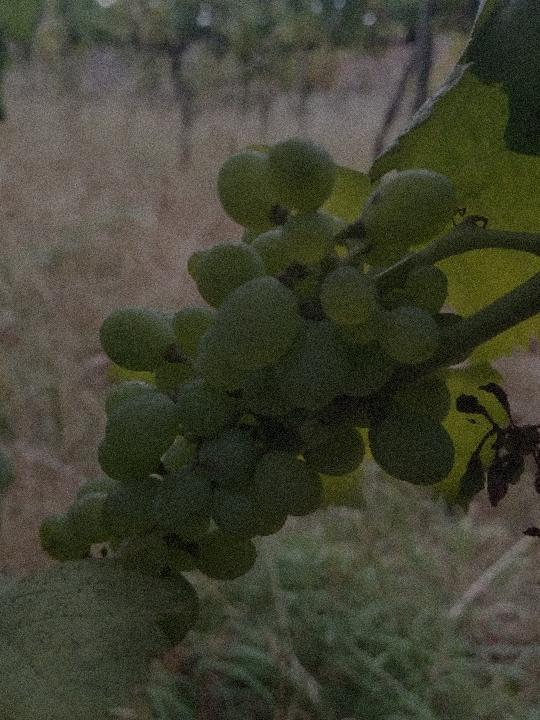grape: (36, 134, 462, 596)
